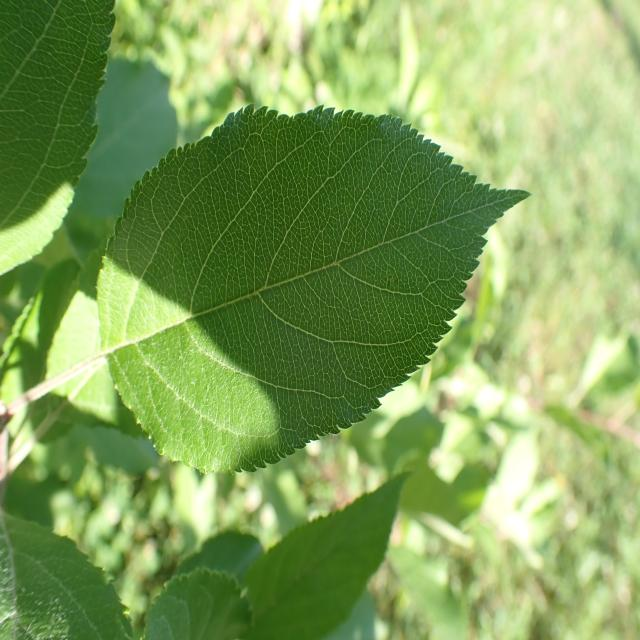healthy: (96, 104, 532, 473), (0, 0, 117, 278), (242, 468, 414, 640), (0, 509, 134, 640), (142, 566, 252, 640)
